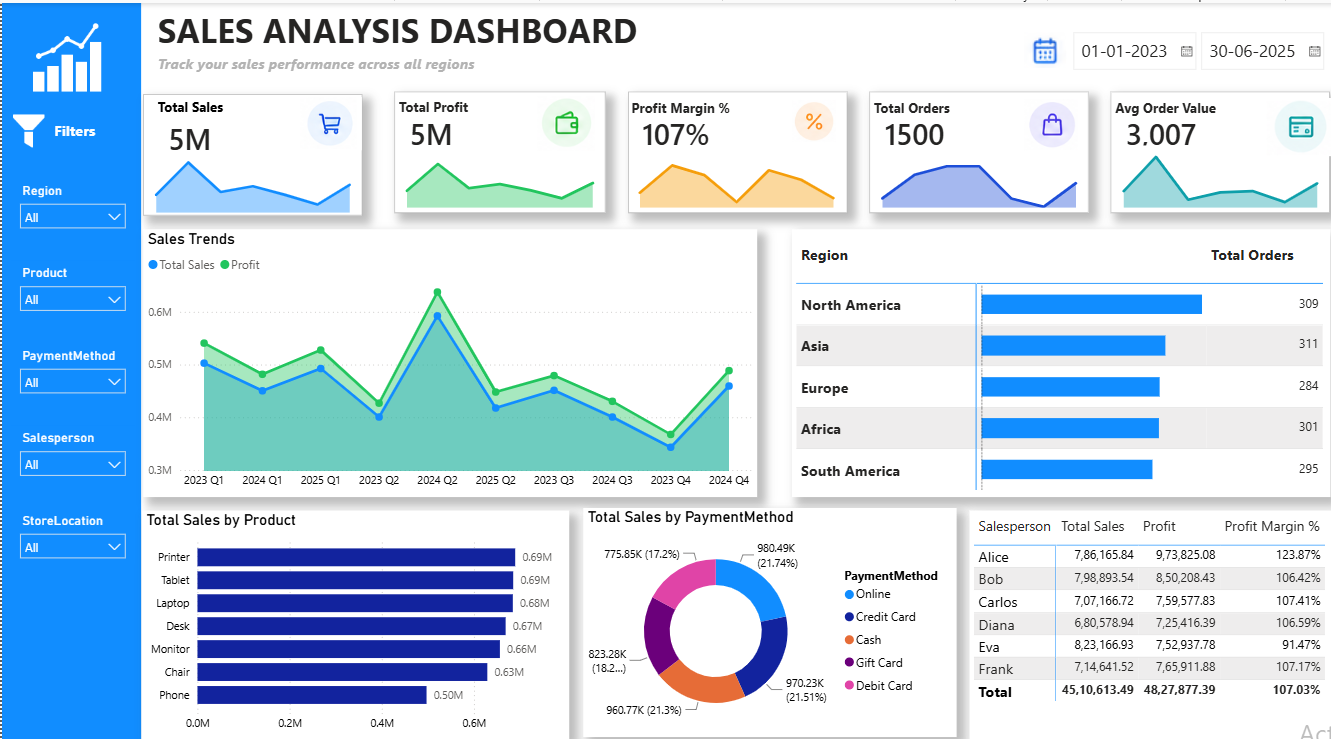

The dashboard page shown, as its layout file describes it:
{"tool":"powerbi","page":{"name":"Page 1","canvas":[1480,820],"ordinal":0},"visuals":[{"type":"textbox","box":[168.8,0,712.2,68.6],"z":0},{"type":"textbox","box":[168.8,52.1,466.6,32.9],"z":1000},{"type":"shape","box":[0,0,155,820.3],"z":2000},{"type":"shape","box":[157.1,101.5,244.3,134.9],"z":3000},{"type":"shape","box":[437.4,98.4,234.8,134.9],"z":4000},{"type":"shape","box":[697.2,98.4,244.3,134.9],"z":5000},{"type":"shape","box":[966.4,98.4,244.3,134.9],"z":6000},{"type":"shape","box":[1235.7,98.4,244.3,134.9],"z":7000},{"type":"textbox","box":[168.2,100,144.4,42.8],"z":8000},{"type":"textbox","box":[437.9,100,122.2,36.5],"z":9000},{"type":"textbox","box":[696.5,101.5,144.4,38.1],"z":10000},{"type":"textbox","box":[966.3,101.5,133.3,42.8],"z":11000},{"type":"textbox","box":[1236,101.5,144.4,31.7],"z":12000},{"type":"cardVisual","fields":{"Data":["KPIMeasure.Total Sales"]},"box":[168.2,119,122.2,63.5],"z":13000},{"type":"cardVisual","fields":{"Data":["KPIMeasure.Profit"]},"box":[437.9,112.7,122.2,63.5],"z":14000},{"type":"cardVisual","fields":{"Data":["KPIMeasure.Profit Margin %"]},"box":[696.5,112.7,144.4,63.5],"z":15000},{"type":"cardVisual","fields":{"Data":["KPIMeasure.Total Orders"]},"box":[966.3,112.7,122.2,63.5],"z":16000},{"type":"cardVisual","fields":{"Data":["KPIMeasure.Average Order Value"]},"box":[1236,112.7,122.2,63.5],"z":17000},{"type":"image","box":[333.2,101.5,68.2,65.1],"z":18000},{"type":"image","box":[595,104.7,71.4,61.9],"z":19000},{"type":"image","box":[880.6,100,50.8,61.9],"z":20000},{"type":"image","box":[1139.2,104.7,60.3,61.9],"z":21000},{"type":"image","box":[1407.3,106.3,73,65.1],"z":22000},{"type":"areaChart","fields":{"Y":["KPIMeasure.Total Sales"],"Category":["Calendar.Year Quarter"]},"box":[157.1,166.6,244.3,66.6],"z":23000},{"type":"areaChart","fields":{"Y":["KPIMeasure.Profit"],"Category":["Calendar.Year Quarter"]},"box":[437.9,161.8,234.8,66.6],"z":24000},{"type":"areaChart","fields":{"Y":["KPIMeasure.Profit Margin %"],"Category":["Calendar.Year Quarter"]},"box":[696.5,161.8,244.3,66.6],"z":25000},{"type":"areaChart","fields":{"Y":["KPIMeasure.Total Orders"],"Category":["Calendar.Year Quarter"]},"box":[966.3,161.8,244.3,66.6],"z":26000},{"type":"areaChart","fields":{"Y":["KPIMeasure.Average Order Value"],"Category":["Calendar.Year Quarter"]},"box":[1236,161.8,244.3,66.6],"z":27000},{"type":"areaChart","title":"Sales Trends","fields":{"Category":["Calendar.Year Quarter"],"Y":["KPIMeasure.Total Sales","KPIMeasure.Profit"]},"box":[157.1,252.3,683.8,298.3],"z":28000},{"type":"pivotTable","fields":{"Rows":["Sales.Region"],"Values":["KPIMeasure.Sales Bar","KPIMeasure.Total Orders"]},"box":[880.6,252.3,599.7,298.3],"z":29000},{"type":"clusteredBarChart","fields":{"Category":["Sales.Product"],"Y":["KPIMeasure.Total Sales"]},"box":[155.5,564.8,476,255.4],"z":30000},{"type":"donutChart","fields":{"Y":["KPIMeasure.Total Sales"],"Category":["Sales.PaymentMethod"]},"box":[647.3,563.3,415.7,255.4],"z":31000},{"type":"pivotTable","fields":{"Rows":["Sales.Salesperson"],"Values":["KPIMeasure.Total Sales","KPIMeasure.Profit","KPIMeasure.Profit Margin %"]},"box":[1077.3,564.8,403,255.4],"z":32000},{"type":"slicer","fields":{"Values":["Sales.Region"]},"box":[9.5,195.2,138,63.5],"z":33000},{"type":"slicer","fields":{"Values":["Sales.Product"]},"box":[9.5,287.2,138,63.5],"z":34000},{"type":"slicer","fields":{"Values":["Sales.PaymentMethod"]},"box":[9.5,379.2,138,63.5],"z":35000},{"type":"slicer","fields":{"Values":["Sales.Salesperson"]},"box":[9.5,471.2,138,63.5],"z":36000},{"type":"slicer","fields":{"Values":["Sales.StoreLocation"]},"box":[9.5,563.3,138,63.5],"z":37000},{"type":"textbox","box":[49.2,125.3,98.4,50.8],"z":37001},{"type":"image","box":[9.5,117.4,39.7,50.8],"z":37002},{"type":"image","box":[30.1,19,84.1,79.3],"z":37003},{"type":"slicer","fields":{"Values":["Calendar.Date"]},"box":[1180.4,22.2,299.9,58.7],"z":37004},{"type":"image","box":[1139.2,28.6,46,46],"z":37005}]}

Visuals, with their boxes in screenshot pixels (x1, y1, x2, y2), scaled from the page's 1480x820 canvas onto the 1331x739 screenshot:
textbox: select_region(152, 0, 792, 62)
textbox: select_region(152, 47, 571, 77)
shape: select_region(0, 0, 139, 738)
shape: select_region(141, 91, 361, 213)
shape: select_region(393, 89, 605, 210)
shape: select_region(627, 89, 847, 210)
shape: select_region(869, 89, 1089, 210)
shape: select_region(1111, 89, 1330, 210)
textbox: select_region(151, 90, 281, 129)
textbox: select_region(394, 90, 504, 123)
textbox: select_region(626, 91, 756, 126)
textbox: select_region(869, 91, 989, 130)
textbox: select_region(1112, 91, 1241, 120)
cardVisual - KPIMeasure.Total Sales: select_region(151, 107, 261, 164)
cardVisual - KPIMeasure.Profit: select_region(394, 102, 504, 159)
cardVisual - KPIMeasure.Profit Margin %: select_region(626, 102, 756, 159)
cardVisual - KPIMeasure.Total Orders: select_region(869, 102, 979, 159)
cardVisual - KPIMeasure.Average Order Value: select_region(1112, 102, 1221, 159)
image: select_region(300, 91, 361, 150)
image: select_region(535, 94, 599, 150)
image: select_region(792, 90, 838, 146)
image: select_region(1025, 94, 1079, 150)
image: select_region(1266, 96, 1330, 154)
areaChart - KPIMeasure.Total Sales x Calendar.Year Quarter: select_region(141, 150, 361, 210)
areaChart - KPIMeasure.Profit x Calendar.Year Quarter: select_region(394, 146, 605, 206)
areaChart - KPIMeasure.Profit Margin % x Calendar.Year Quarter: select_region(626, 146, 846, 206)
areaChart - KPIMeasure.Total Orders x Calendar.Year Quarter: select_region(869, 146, 1089, 206)
areaChart - KPIMeasure.Average Order Value x Calendar.Year Quarter: select_region(1112, 146, 1330, 206)
"Sales Trends" areaChart: select_region(141, 227, 756, 496)
pivotTable - Sales.Region x KPIMeasure.Sales Bar: select_region(792, 227, 1330, 496)
clusteredBarChart - Sales.Product x KPIMeasure.Total Sales: select_region(140, 509, 568, 738)
donutChart - KPIMeasure.Total Sales x Sales.PaymentMethod: select_region(582, 508, 956, 738)
pivotTable - Sales.Salesperson x KPIMeasure.Total Sales: select_region(969, 509, 1330, 738)
slicer - Sales.Region: select_region(9, 176, 133, 233)
slicer - Sales.Product: select_region(9, 259, 133, 316)
slicer - Sales.PaymentMethod: select_region(9, 342, 133, 399)
slicer - Sales.Salesperson: select_region(9, 425, 133, 482)
slicer - Sales.StoreLocation: select_region(9, 508, 133, 565)
textbox: select_region(44, 113, 133, 159)
image: select_region(9, 106, 44, 152)
image: select_region(27, 17, 103, 89)
slicer - Calendar.Date: select_region(1062, 20, 1330, 73)
image: select_region(1025, 26, 1066, 67)
